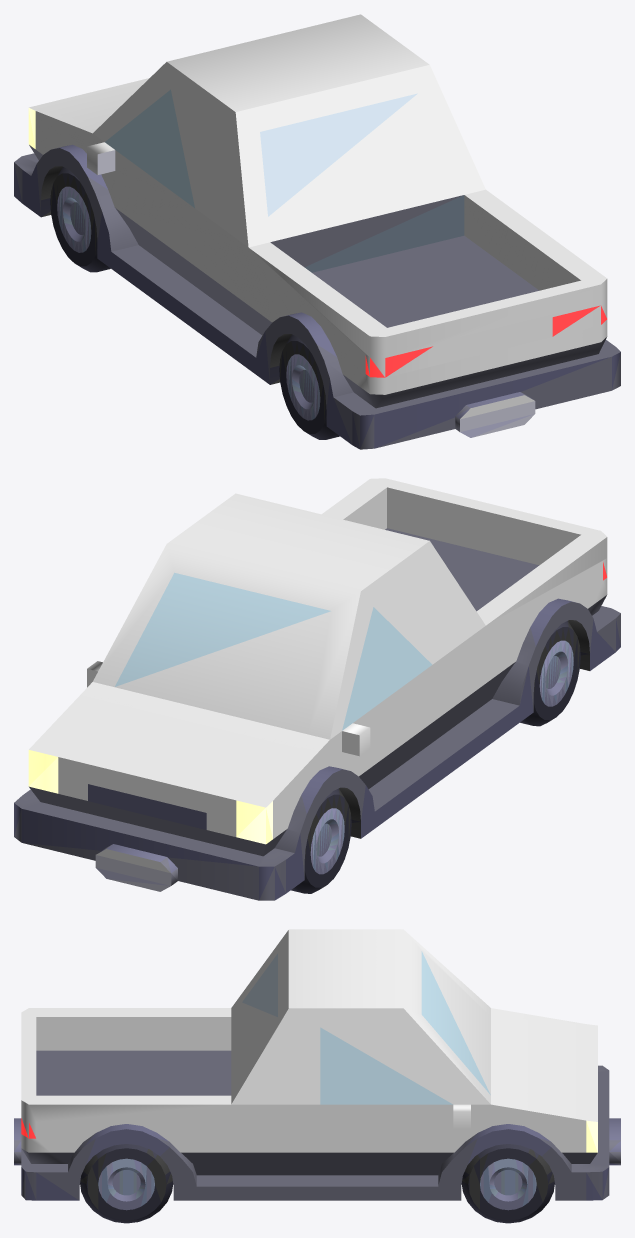
Rendered from short-pickup.glb.
The picture shows the model from 3 angles, top to bottom: view 1: azimuth 30°, elevation 25°; view 2: azimuth 150°, elevation 25°; view 3: azimuth 270°, elevation 25°; orthographic projection. The views are drawn at different scales.
Parts seen in each view (by area): view 1: body, wheel_FL, wheel_RL; view 2: body, wheel_FL, wheel_RL; view 3: body, wheel_FR, wheel_RR.
Boxes of the visible parts, bbox=[...] form: body: bbox=[14, 14, 620, 449]; wheel_FL: bbox=[50, 167, 110, 272]; wheel_RL: bbox=[279, 334, 339, 439]; body: bbox=[14, 478, 620, 900]; wheel_FL: bbox=[291, 788, 351, 893]; wheel_RL: bbox=[520, 621, 580, 726]; body: bbox=[14, 929, 620, 1200]; wheel_FR: bbox=[461, 1144, 554, 1223]; wheel_RR: bbox=[80, 1144, 173, 1223].
Bounding box in the file's own units: 1.98 × 1.72 × 4.58.
